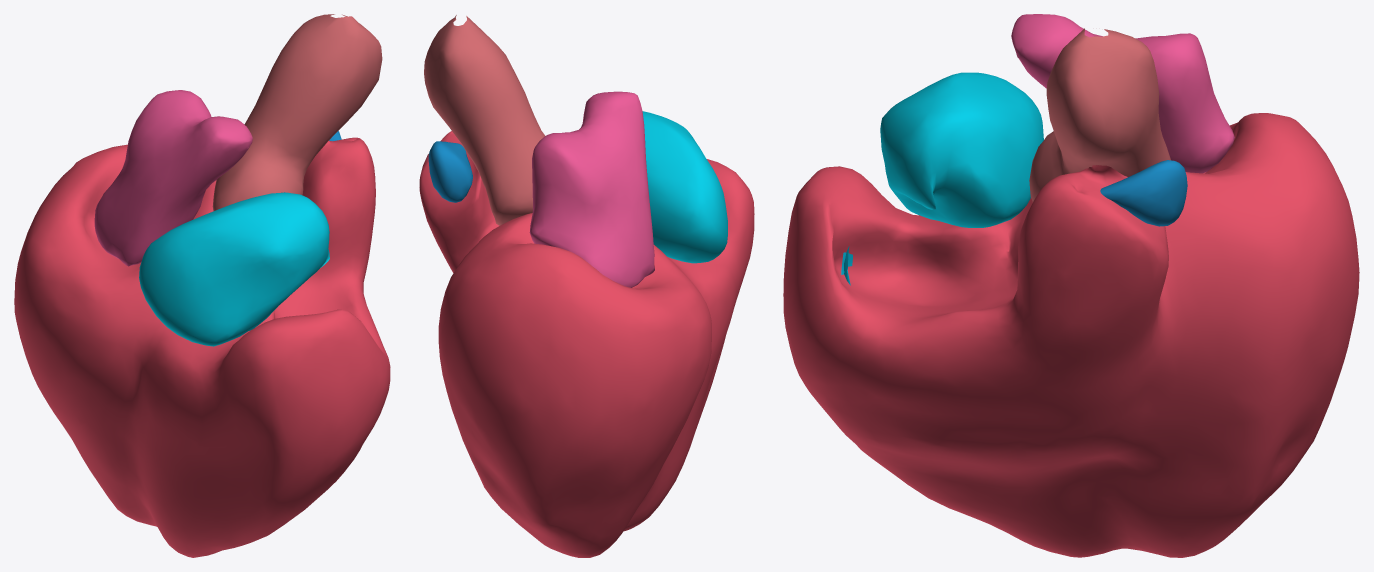
The model's file is frame_63.glb.
3 renders of one model, left to right at view 1: azimuth 30°, elevation 25°; view 2: azimuth 150°, elevation 25°; view 3: azimuth 270°, elevation 25°, orthographic. The views are drawn at different scales.
Visible parts, largest first — view 1: Renderer Node; view 2: Renderer Node; view 3: Renderer Node.
Part boxes in pixels (x1,y1,x2,y2): Renderer Node: (14,14,390,557); Renderer Node: (419,15,754,557); Renderer Node: (783,14,1359,557).
Bounding box in the file's own units: 105 × 162 × 136.
